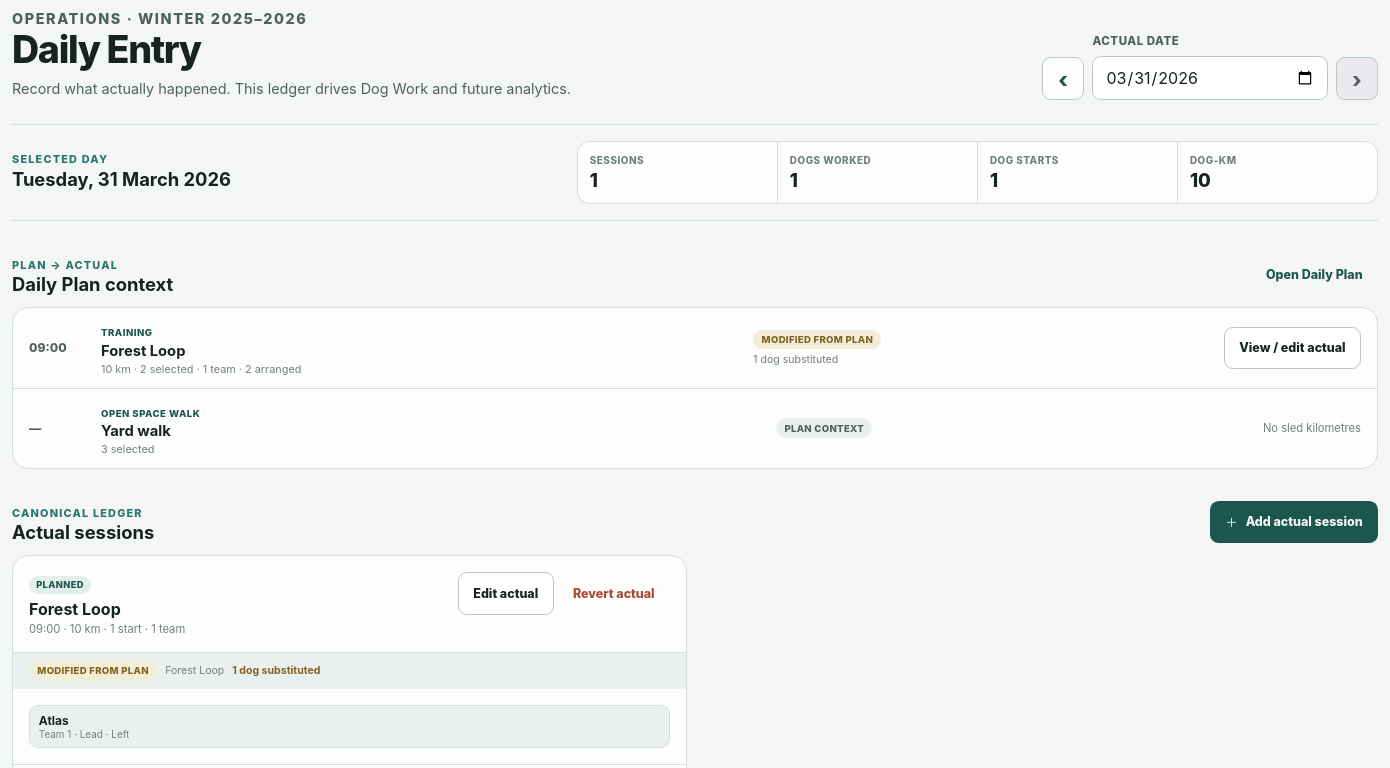
DailyEntryPageComponent › keeps actual work visible and correction retryable when reversal fails
Click the button with class "danger-text". click: (614, 593)
box: x1=558 y1=572 x2=670 y2=615
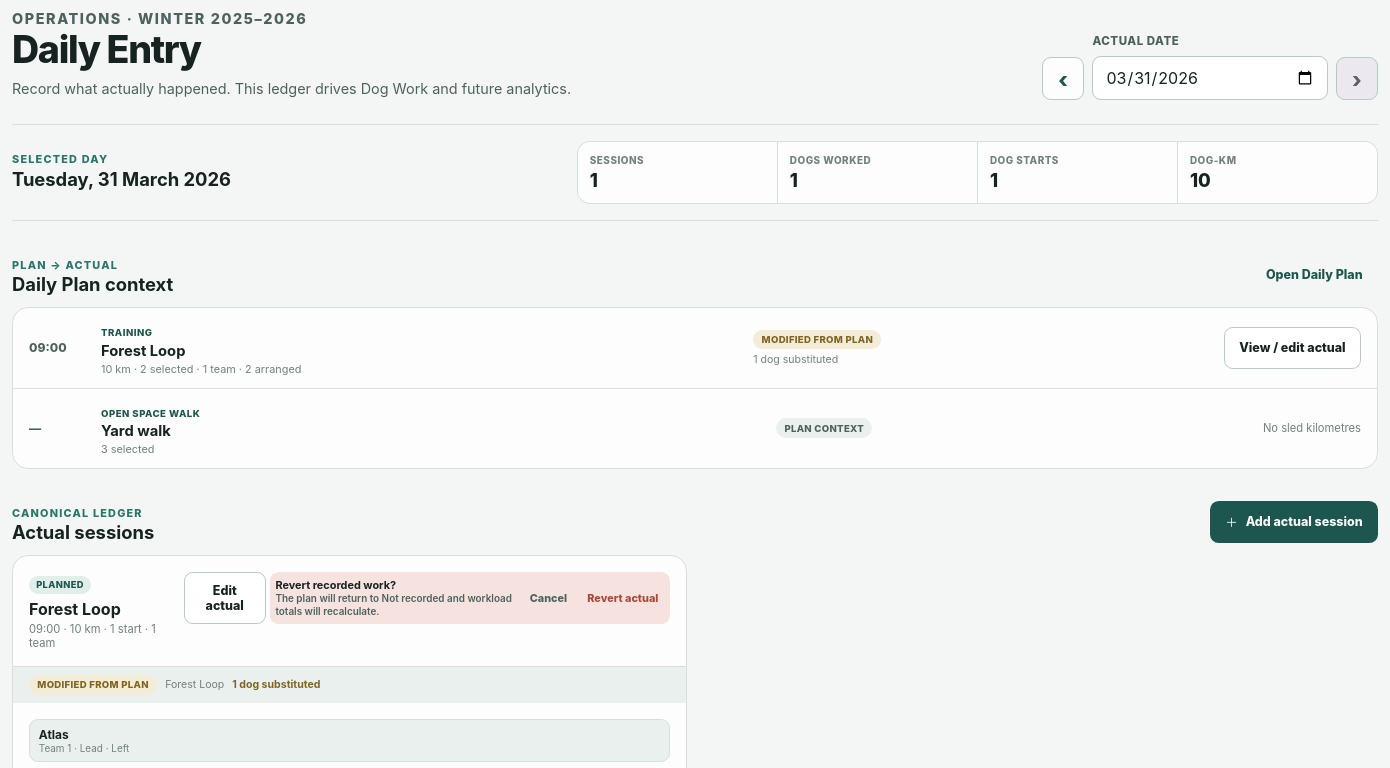
Click the button with class "danger". click: (623, 598)
box: x1=581 y1=590 x2=664 y2=606
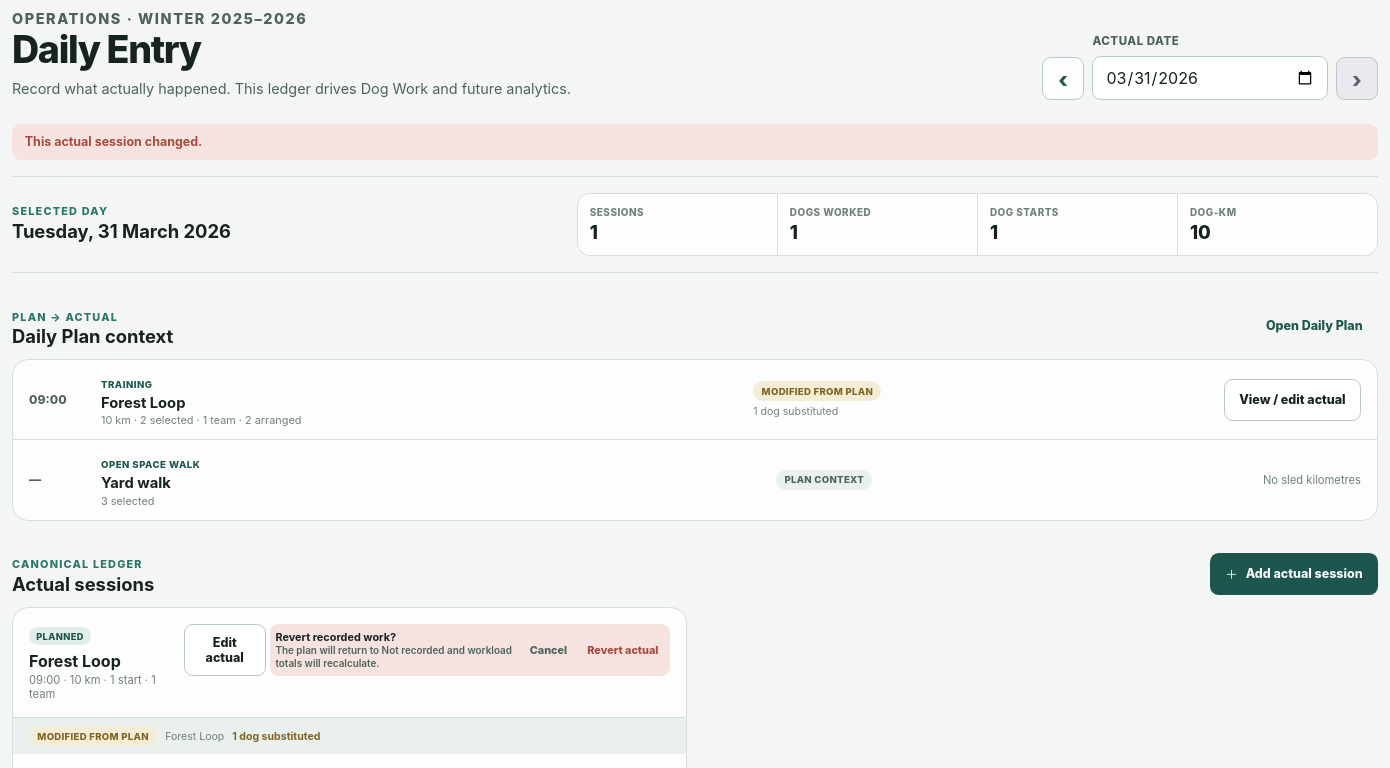
Expected: the element with class "session-card" shows "Forest Loop", x1=29 y1=651 x2=121 y2=671
Result: the message with class "error" shows "session changed" at x1=25 y1=134 x2=202 y2=149
